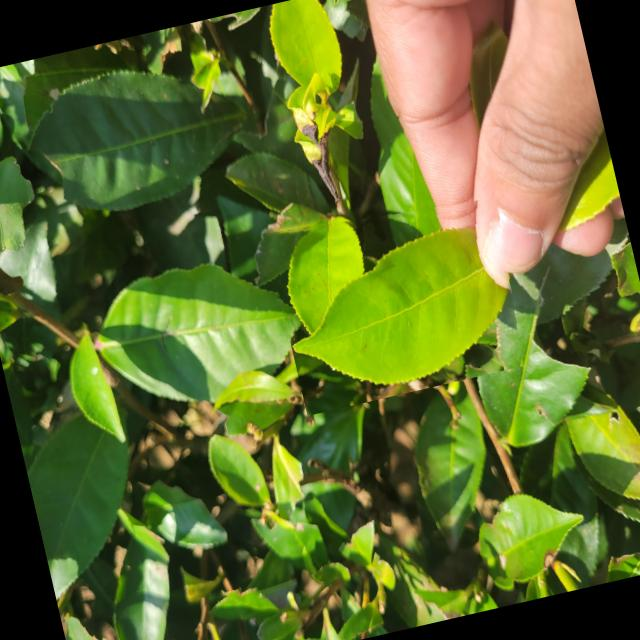Catagory A(1-2 days): (265, 180, 534, 414)
